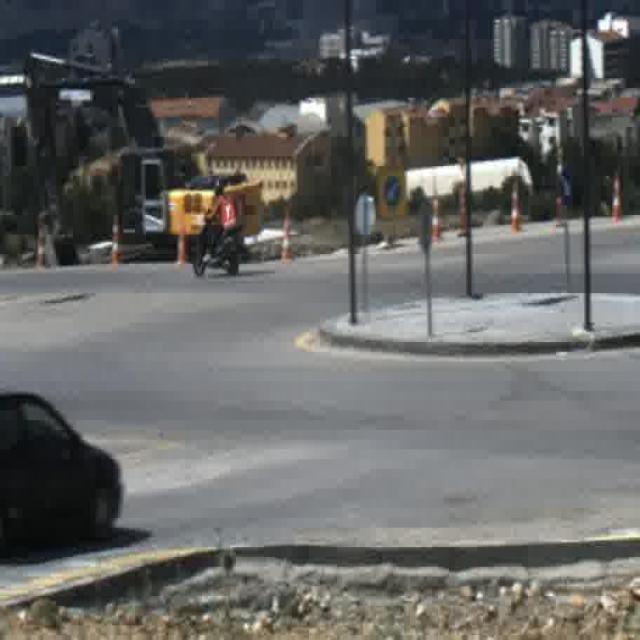Car: (0, 390, 124, 546)
Motorcycle: (191, 179, 242, 277)
